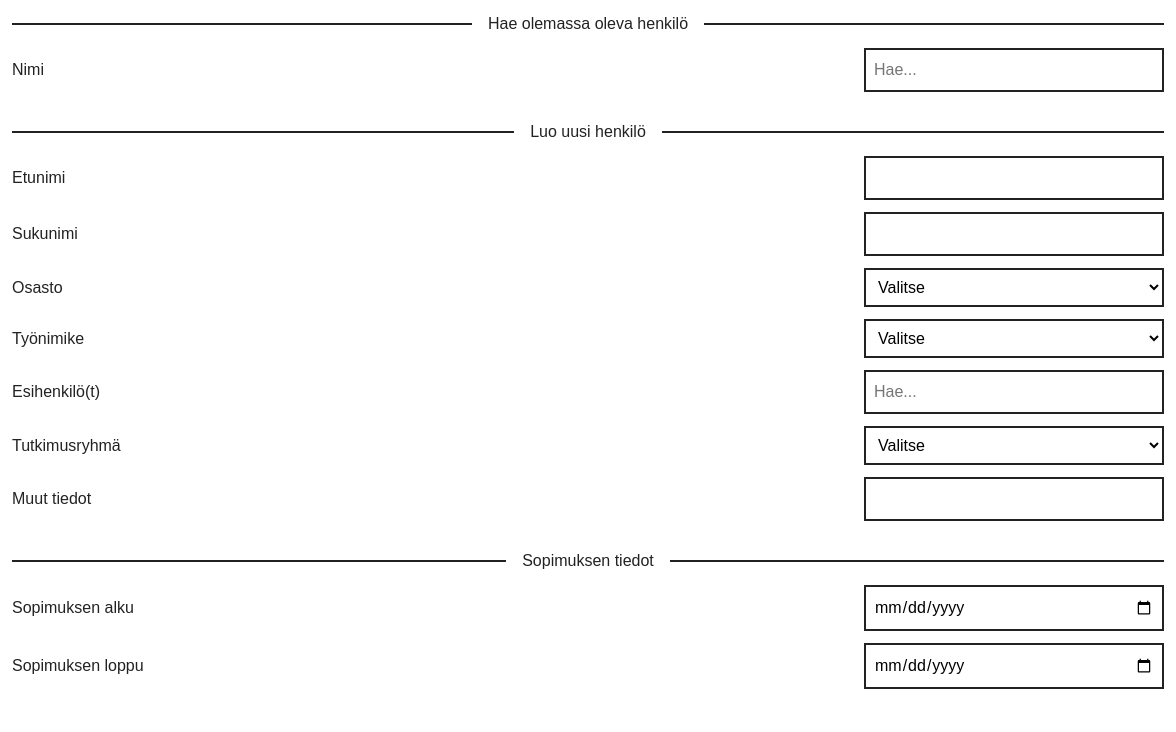
Scenario: PersonForm › clicking a supervisor in the dropdown adds them as a tag
This screenshot has width=1176, height=732.
Focus the field labelled "Esihenkilö(t)" at (1014, 392), box [864,370,1164,414]
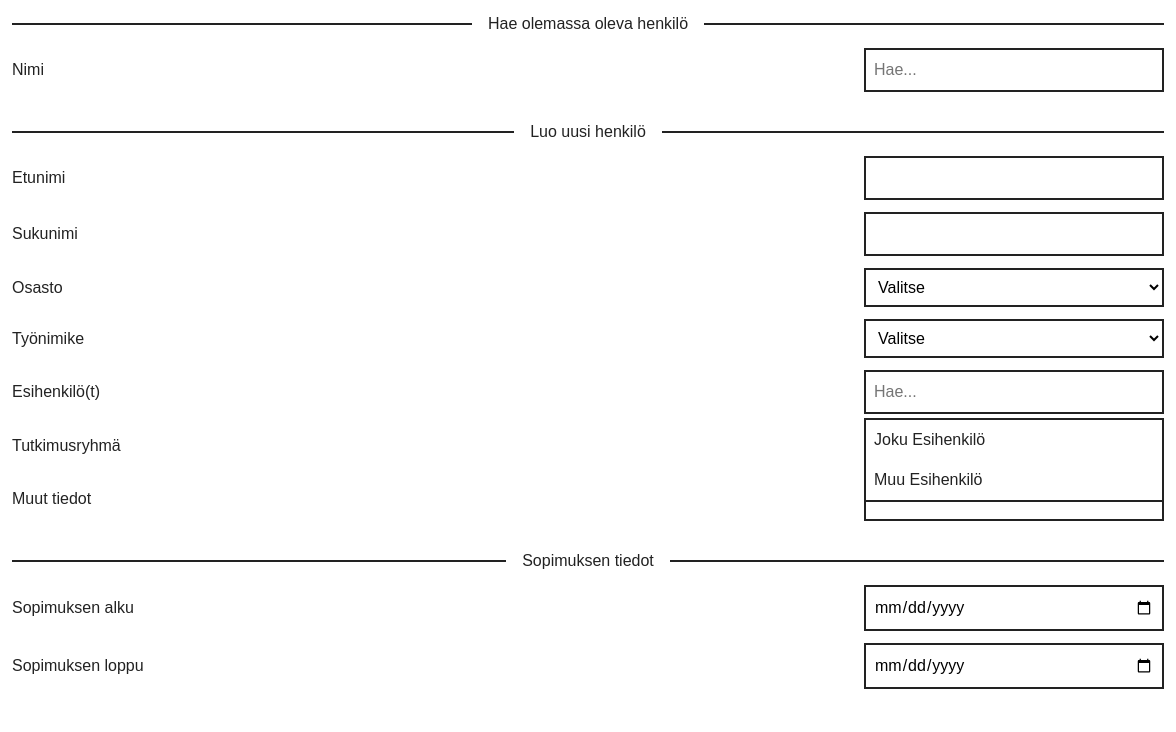
Click the option "Joku Esihenkilö" at (930, 440), box [874,431,985,448]
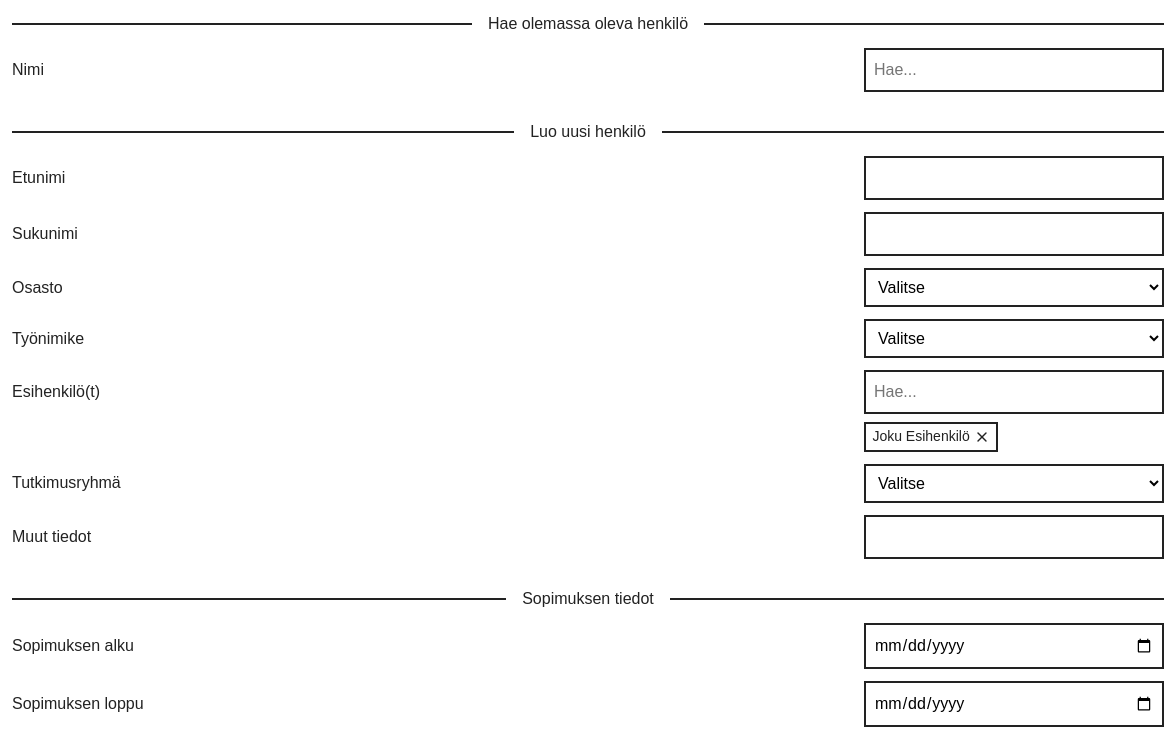
Expected: the button named "Poista Joku Esihenkilö" is shown, [974,429,990,445]
